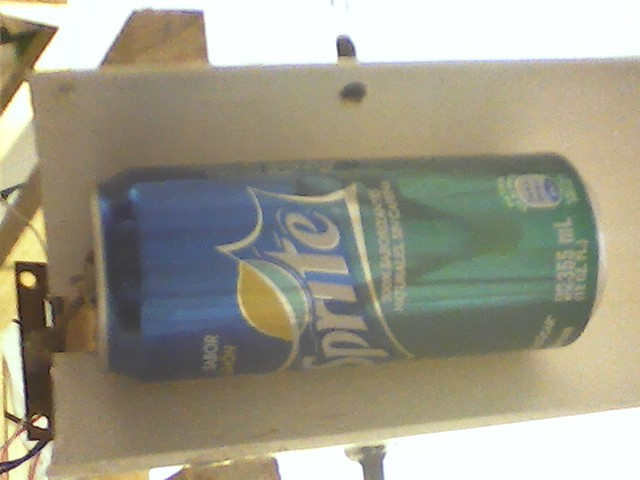lata: (79, 151, 615, 391)
